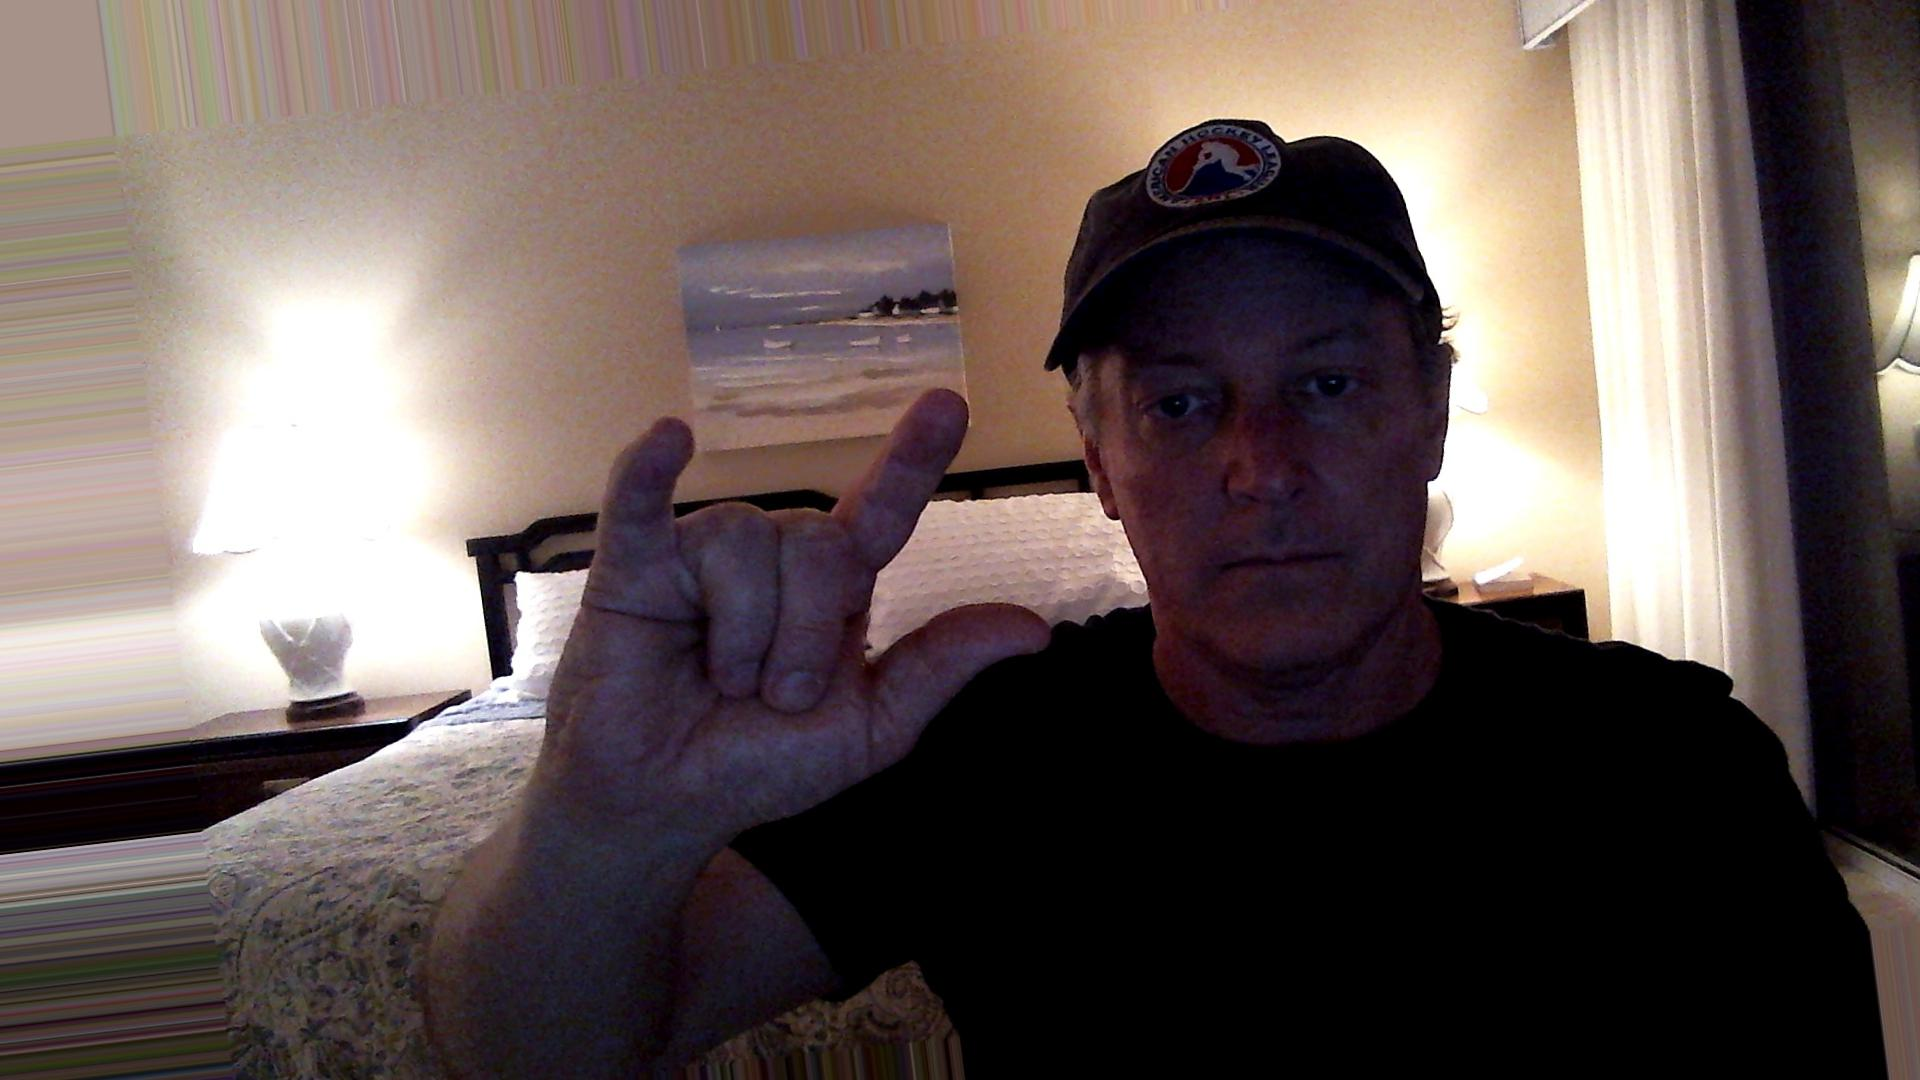I Love You: (525, 382, 1067, 820)
